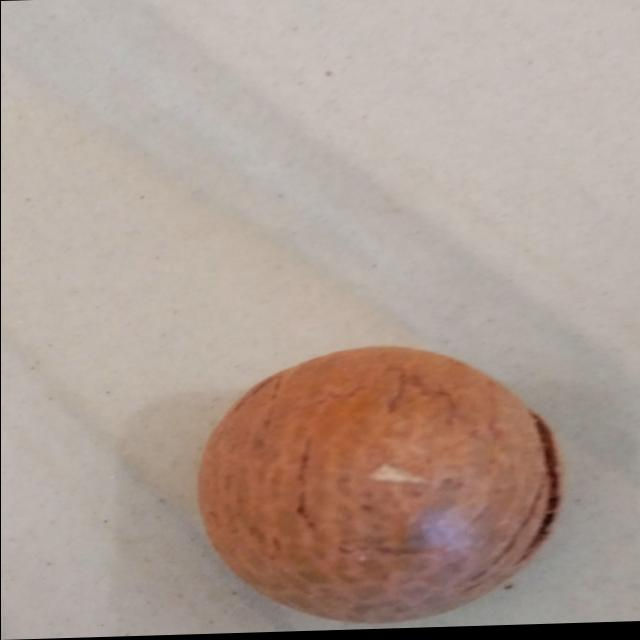phatora: (197, 336, 544, 624)
